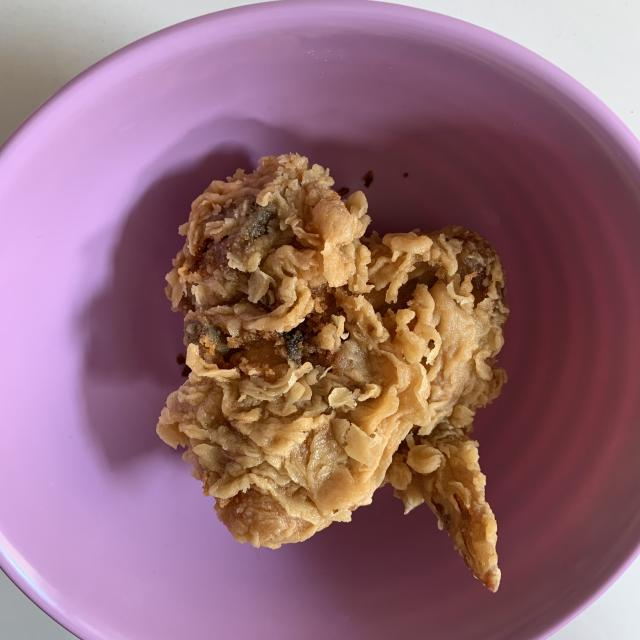Wet Waste: (160, 153, 502, 595)
